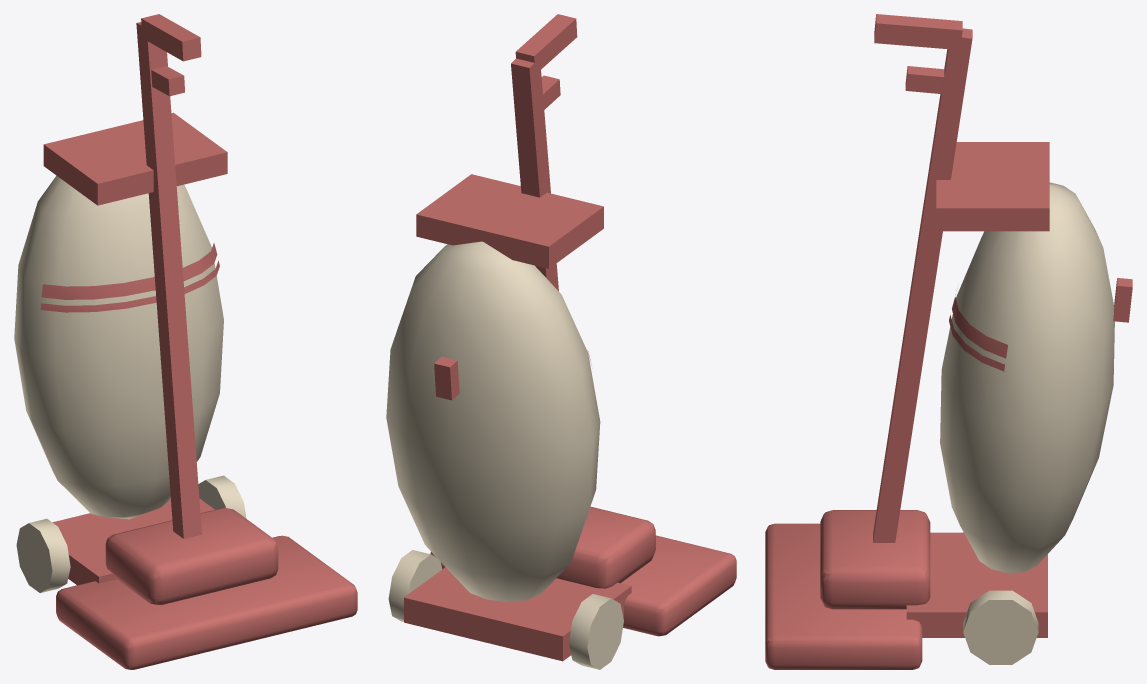
File: VacuumV01.glb
3 views of the same model, side by side, from view 1: azimuth 30°, elevation 25°; view 2: azimuth 150°, elevation 25°; view 3: azimuth 270°, elevation 25° (orthographic). The views are drawn at different scales.
Visible parts, largest first — view 1: Body_Body, Body_Bag; view 2: Body_Bag, Body_Body; view 3: Body_Body, Body_Bag.
Part boxes in pixels (x1,y1,x2,y2): Body_Body: [40, 14, 357, 669]; Body_Bag: [14, 175, 246, 592]; Body_Bag: [386, 241, 623, 669]; Body_Body: [404, 14, 736, 661]; Body_Body: [765, 14, 1132, 669]; Body_Bag: [940, 182, 1114, 664].
Bounding box in the file's own units: 1.8 × 4.19 × 2.34.
